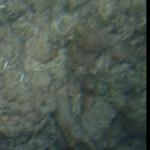dead: (1, 10, 141, 146)
